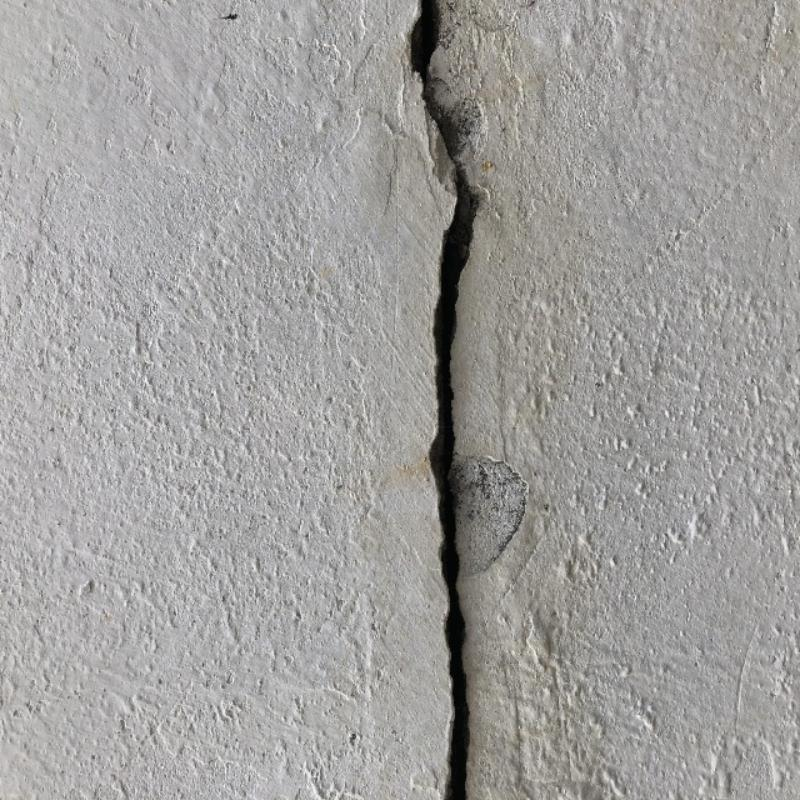crack: (411, 1, 479, 799)
